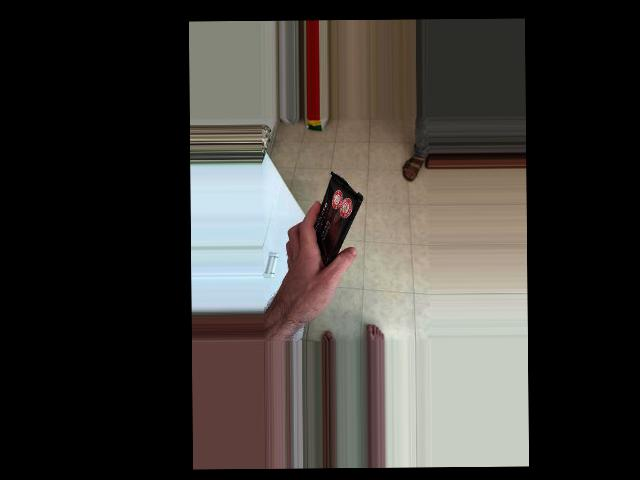chocolate: (305, 169, 365, 279)
